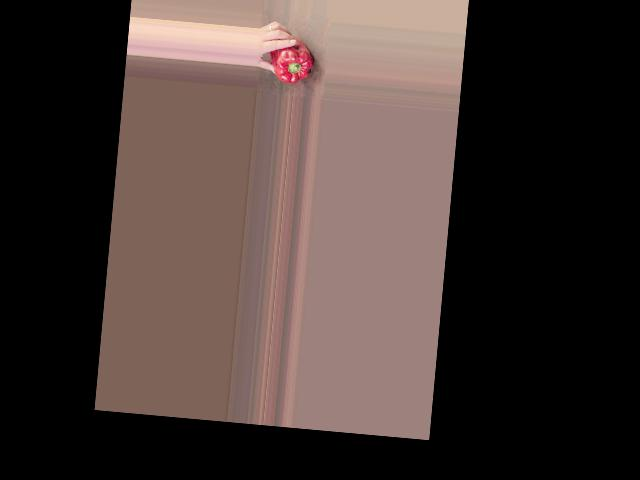bell_pepper: (269, 39, 314, 86)
